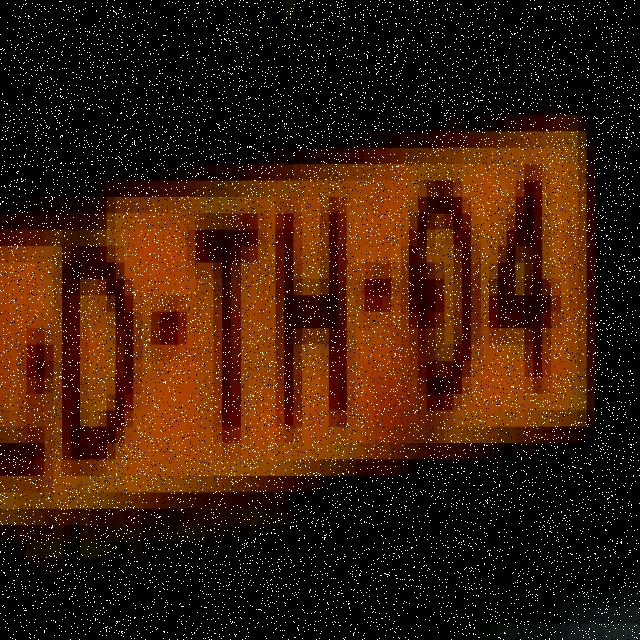licenseplate: (1, 75, 604, 558)
